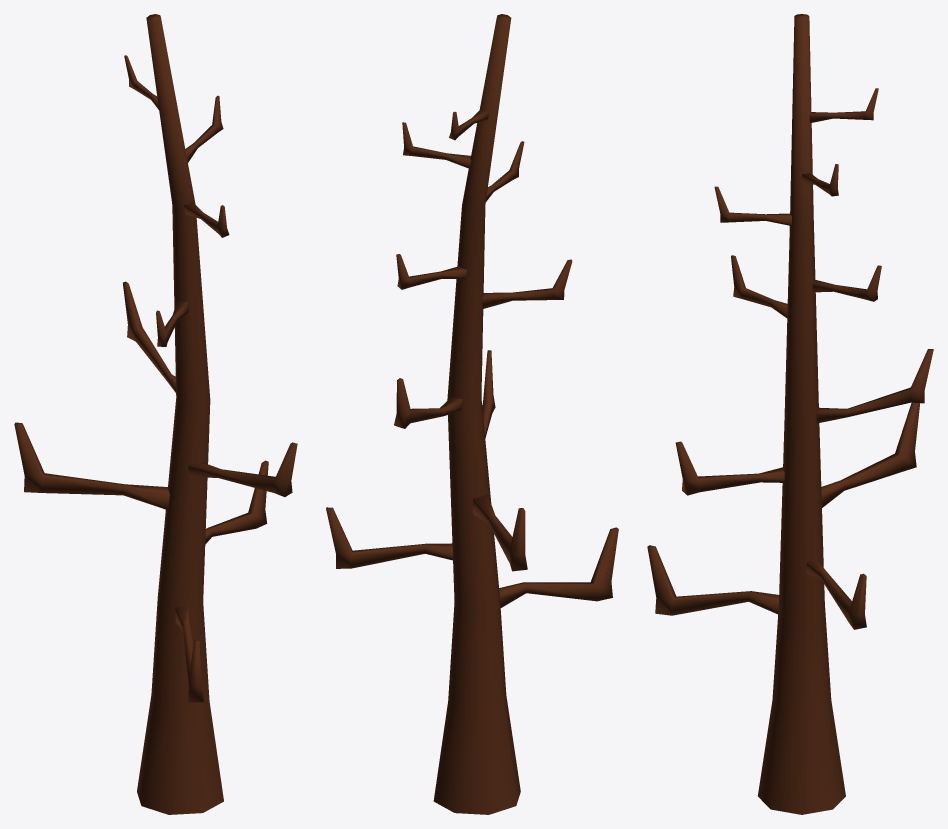
Rendered from ArbolSecoA.fbx.
3 views of the same model, side by side, from view 1: azimuth 30°, elevation 25°; view 2: azimuth 150°, elevation 25°; view 3: azimuth 270°, elevation 25° (orthographic). The views are drawn at different scales.
Visible parts, largest first — view 1: ArbolSecoA; view 2: ArbolSecoA; view 3: ArbolSecoA.
Part boxes in pixels (x1=…): ArbolSecoA: x1=14, y1=14, x2=297, y2=814; ArbolSecoA: x1=326, y1=14, x2=618, y2=814; ArbolSecoA: x1=647, y1=14, x2=933, y2=814.
Size of the model in its own units: 132 by 439 by 148.
